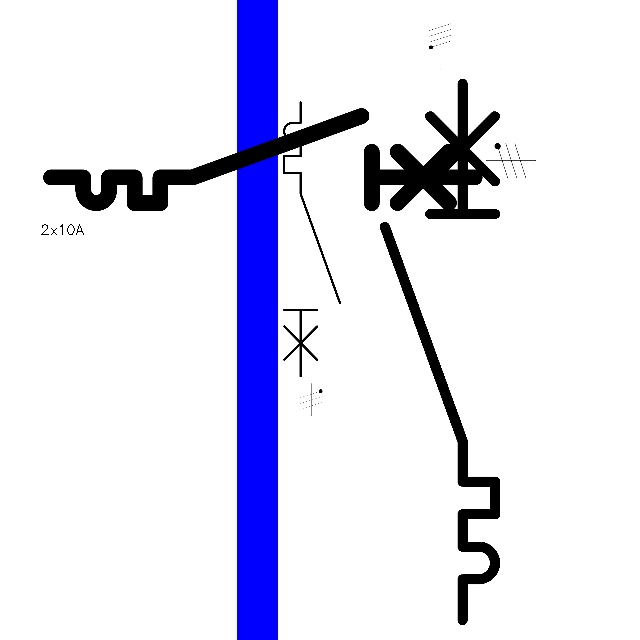interruptor_termomagnetico: (371, 69, 509, 633), (40, 105, 485, 214), (277, 95, 347, 384)
